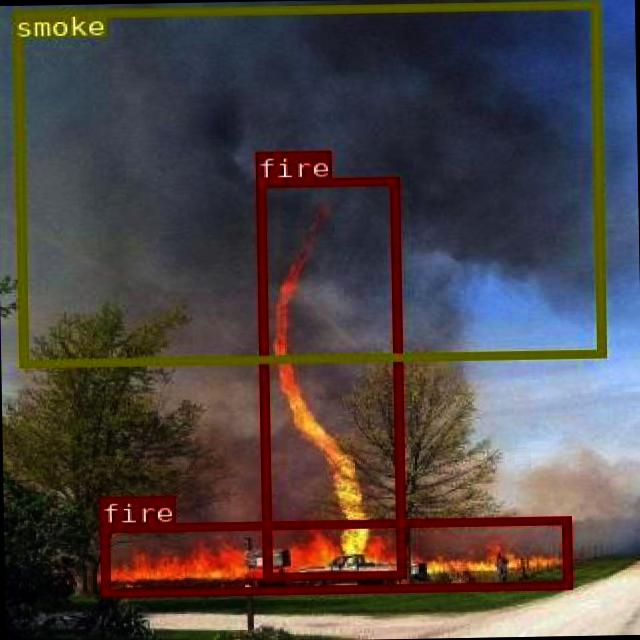fire: (254, 176, 404, 578), (98, 515, 570, 596)
smoke: (12, 0, 603, 365)
